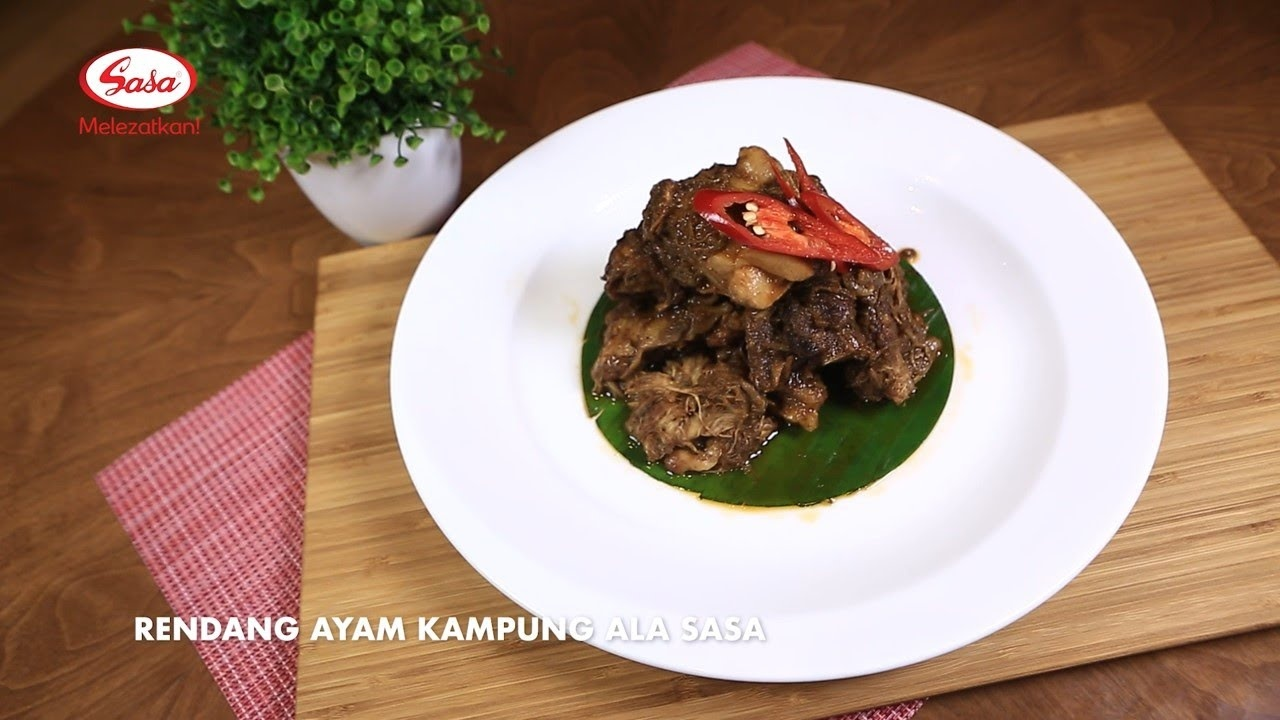rendang: (575, 122, 935, 470)
